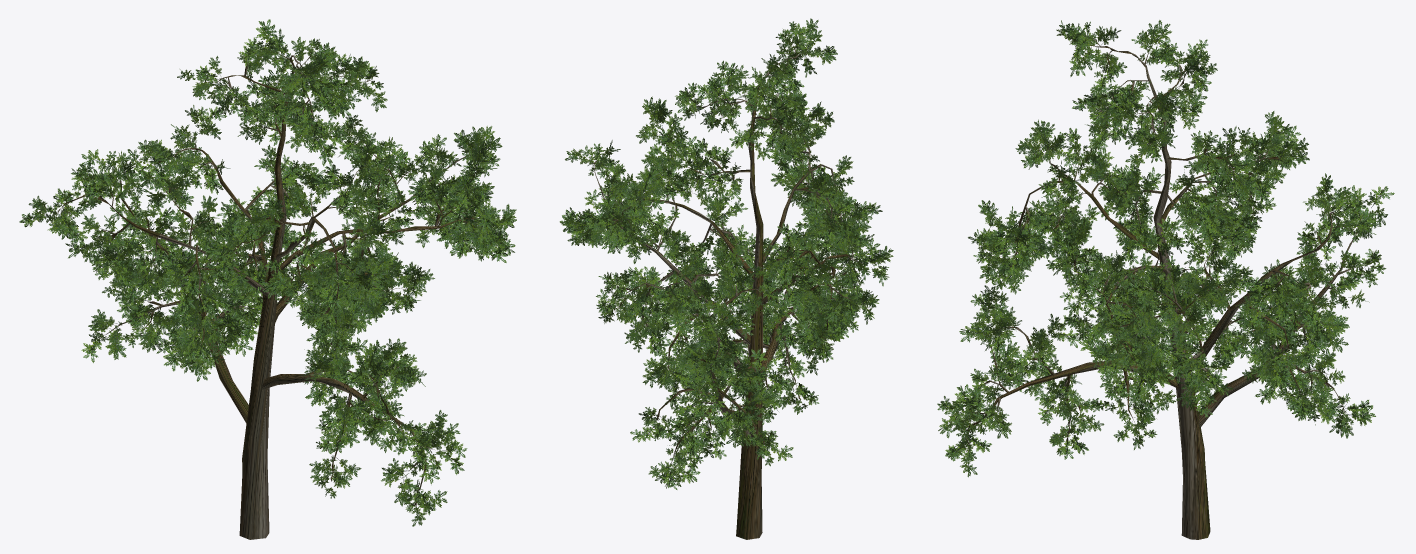
The model's file is ash_medium_tree.glb.
3 renders of one model, left to right at view 1: azimuth 30°, elevation 25°; view 2: azimuth 150°, elevation 25°; view 3: azimuth 270°, elevation 25°, orthographic. The views are drawn at different scales.
Parts seen in each view (by area): view 1: Tree; view 2: Tree; view 3: Tree.
Part boxes in pixels (x1,y1,x2,y2): Tree: (19,19,516,539); Tree: (559,18,893,539); Tree: (937,20,1394,539).
Size of the model in its own units: 1.85 by 2.18 by 1.8.
Materials: 2 (2 with a texture image).
